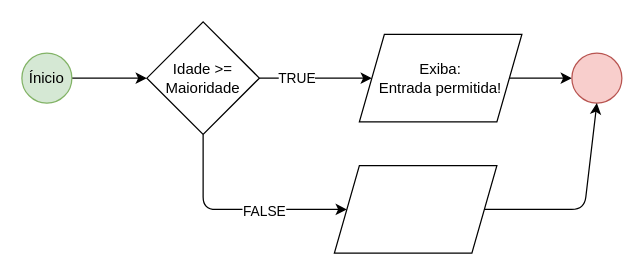
This 644x275 diagram has some shape labels left out. The centre of each missing label's shape, as x and y in pixels:
Exiba: Entrada negada!: [415,208]
Fim: [596,77]
